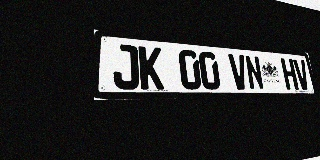0: (178, 49, 202, 90), (198, 51, 221, 90)
H: (280, 58, 299, 90)
J: (112, 44, 140, 89)
K: (138, 46, 164, 90)
N: (244, 55, 265, 90)
V: (228, 53, 249, 90), (293, 59, 311, 90)
